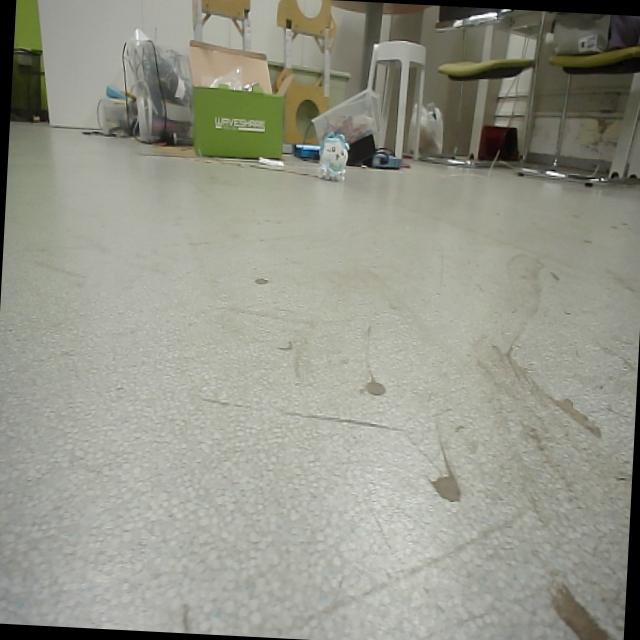xiaoba: (319, 128, 350, 184)
